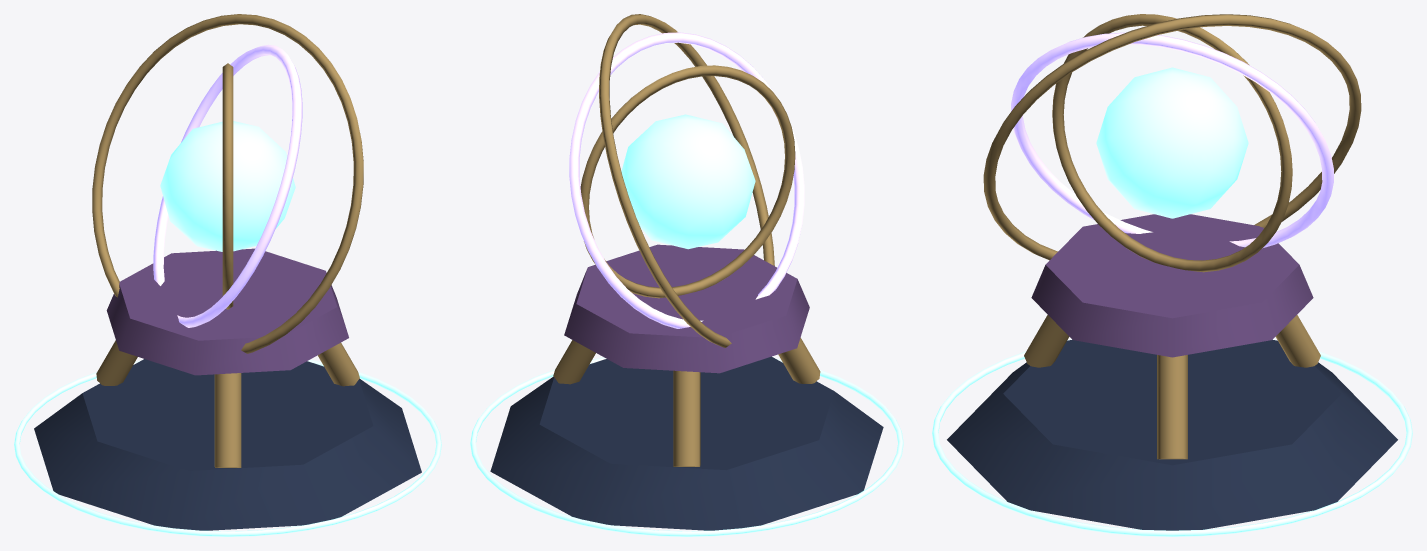
File: station-05.glb
3 renders of one model, left to right at view 1: azimuth 30°, elevation 25°; view 2: azimuth 150°, elevation 25°; view 3: azimuth 270°, elevation 25°, orthographic. The views are drawn at different scales.
Parts seen in each view (by area): view 1: ProjectStation_05_dark, ProjectStation_05_violet, Artifact_05_glow, Artifact_05_gold, Artifact_05_rune, ProjectStation_05_gold, ProjectStation_05_glow; view 2: ProjectStation_05_dark, ProjectStation_05_violet, Artifact_05_glow, Artifact_05_gold, Artifact_05_rune, ProjectStation_05_gold, ProjectStation_05_glow; view 3: ProjectStation_05_dark, ProjectStation_05_violet, Artifact_05_glow, Artifact_05_gold, Artifact_05_rune, ProjectStation_05_gold, ProjectStation_05_glow.
Part boxes in pixels (bbox=[...]): ProjectStation_05_dark: bbox=[34, 359, 421, 530]; ProjectStation_05_violet: bbox=[106, 248, 348, 375]; Artifact_05_glow: bbox=[160, 121, 295, 251]; Artifact_05_gold: bbox=[92, 14, 363, 353]; Artifact_05_rune: bbox=[153, 44, 302, 327]; ProjectStation_05_gold: bbox=[96, 340, 359, 467]; ProjectStation_05_glow: bbox=[14, 360, 441, 536]; ProjectStation_05_dark: bbox=[490, 356, 883, 530]; ProjectStation_05_violet: bbox=[564, 244, 809, 373]; Artifact_05_glow: bbox=[621, 114, 755, 249]; Artifact_05_gold: bbox=[580, 14, 795, 347]; Artifact_05_rune: bbox=[569, 32, 804, 328]; ProjectStation_05_gold: bbox=[553, 337, 820, 466]; ProjectStation_05_glow: bbox=[470, 357, 903, 536]; ProjectStation_05_dark: bbox=[947, 340, 1397, 530]; ProjectStation_05_violet: bbox=[1031, 214, 1313, 357]; Artifact_05_glow: bbox=[1096, 67, 1248, 218]; Artifact_05_gold: bbox=[983, 14, 1361, 272]; Artifact_05_rune: bbox=[1011, 32, 1333, 248]; ProjectStation_05_gold: bbox=[1024, 315, 1320, 459]; ProjectStation_05_glow: bbox=[932, 339, 1412, 536].
Bounding box in the file's own units: 1.7 × 1.78 × 1.7.
